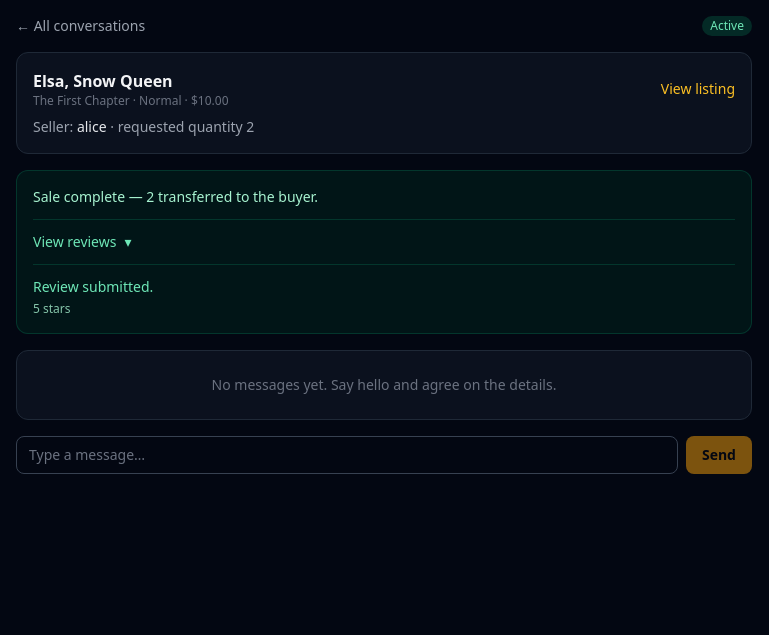
Test case: MarketplaceChatThreadPage › shows 'Your review' and 'Seller's review' with rating+comment for a buyer caller (AC-REV-2.4)
Step 1. Click the button "View reviews ▾" → (82, 242), box [33, 232, 132, 252]
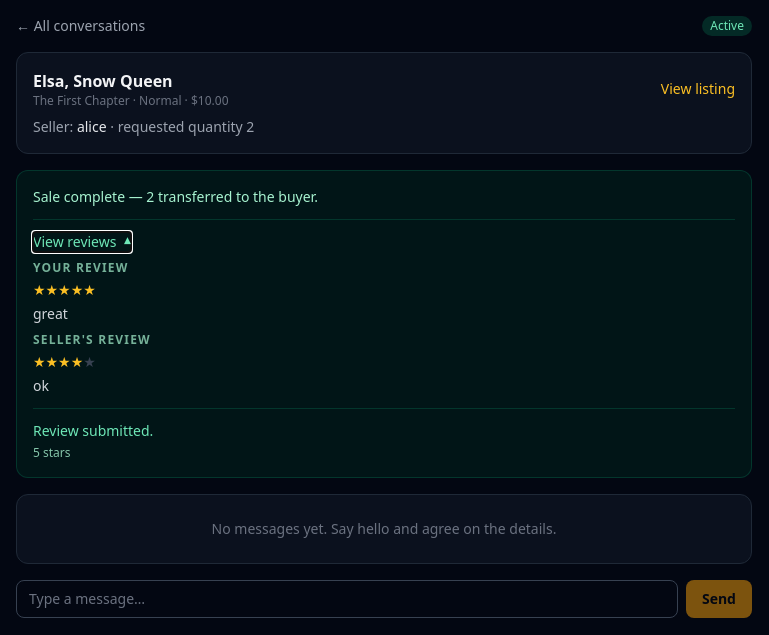
Check: the text "Your review" is shown, box [33, 259, 128, 276]
Check: the text "Seller's review" is shown, box [33, 331, 151, 348]
Check: the element named "5 out of 5" is shown, box [33, 280, 96, 299]
